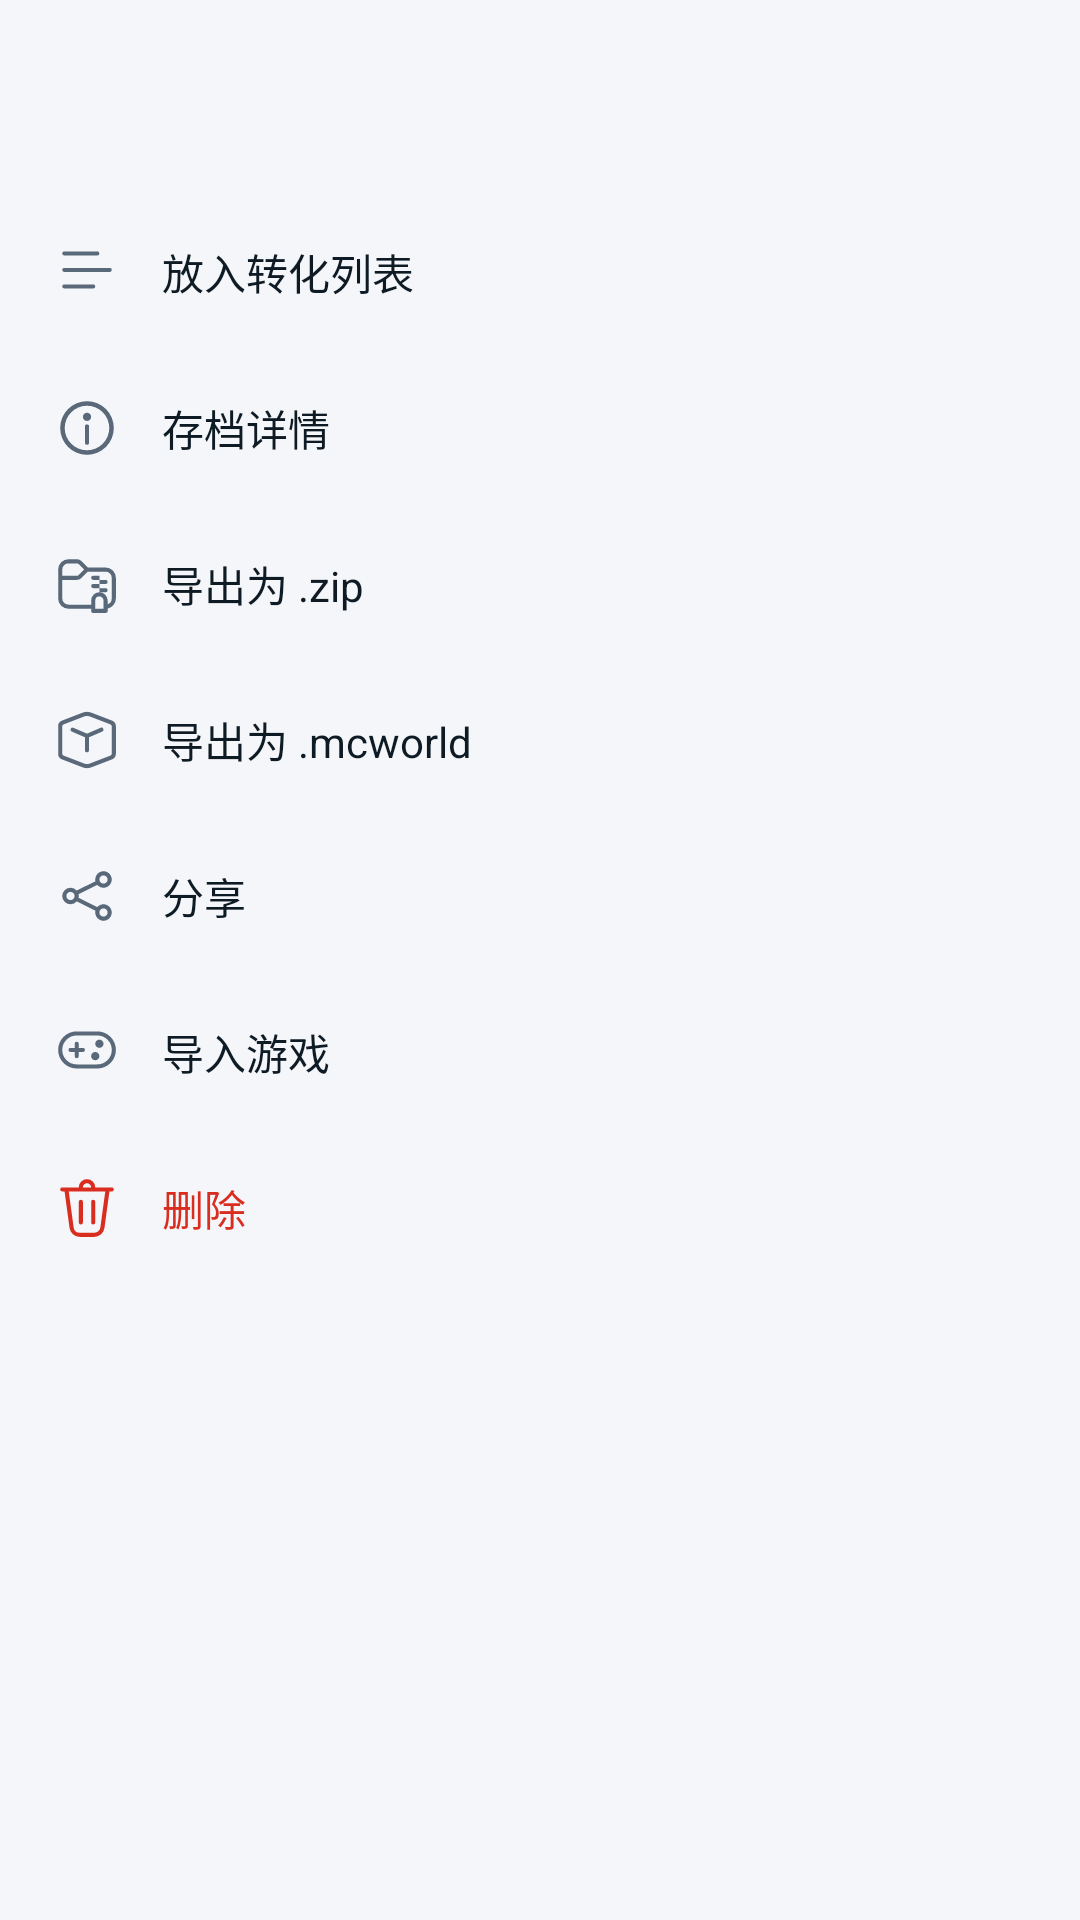

Screen size 1080x1920. Icon name, then its center in pixels as (x=x, y=y):
bedrock: (x=87, y=740)
delete: (x=87, y=1208)
game: (x=87, y=1050)
info: (x=87, y=428)
share: (x=87, y=896)
